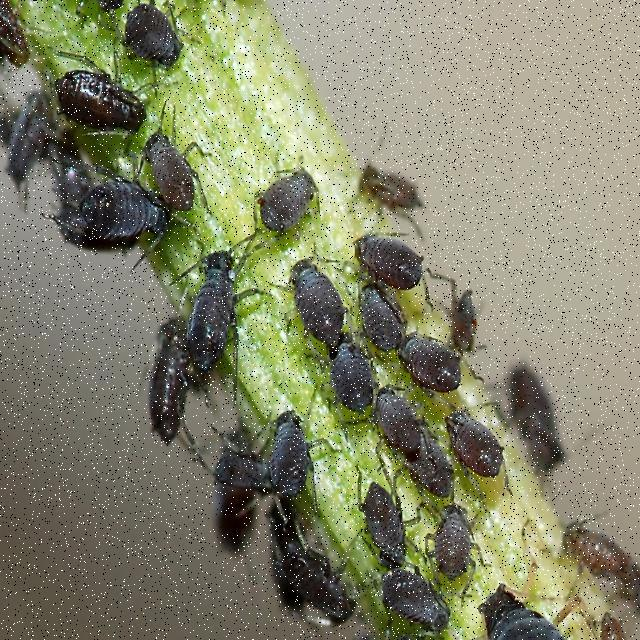Aphids: (32, 45, 150, 148), (409, 447, 491, 574), (257, 534, 371, 625), (68, 152, 167, 256), (137, 309, 211, 442), (247, 138, 332, 247), (547, 498, 640, 593), (421, 395, 512, 492), (189, 245, 255, 378), (509, 350, 579, 474), (260, 391, 330, 505), (351, 208, 433, 298), (138, 131, 219, 220), (339, 262, 413, 359), (374, 563, 461, 639), (354, 147, 436, 227), (105, 1, 192, 76), (207, 422, 286, 504), (341, 465, 402, 562), (314, 316, 372, 416), (441, 268, 499, 367), (370, 381, 436, 467), (394, 331, 475, 401), (287, 257, 350, 339)
